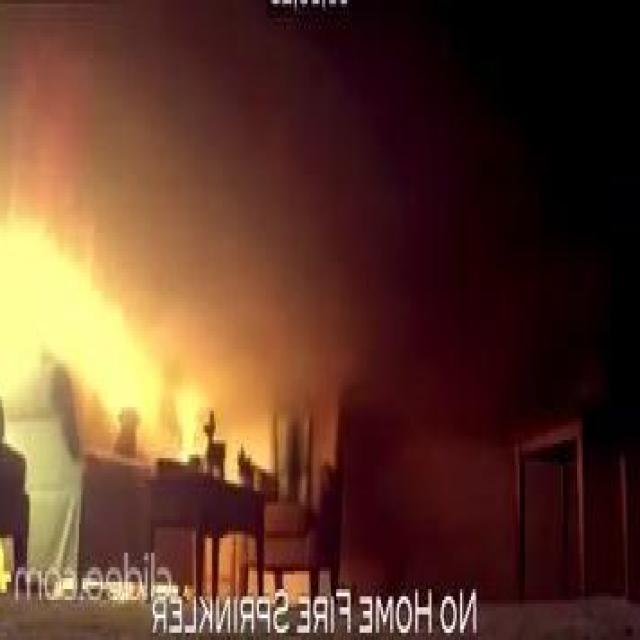smoke: (0, 215, 203, 448)
